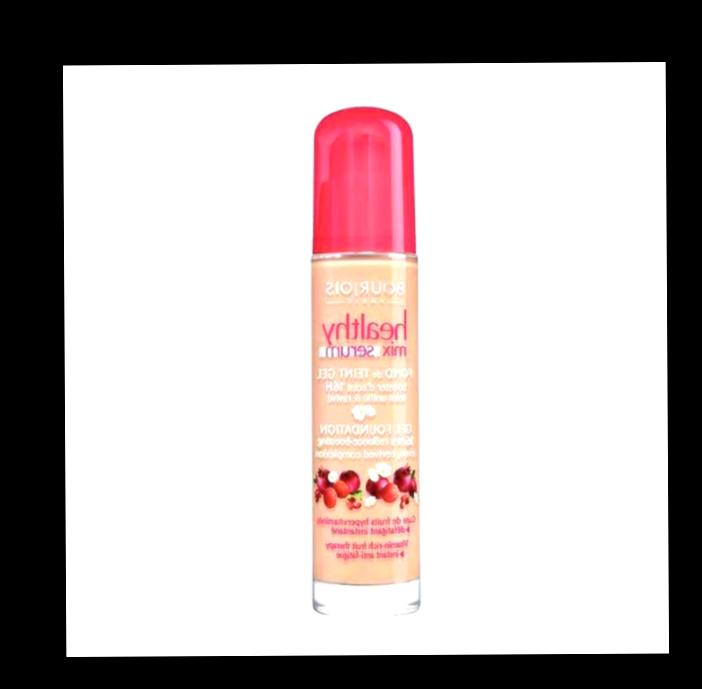cosmetic: (308, 106, 424, 612)
